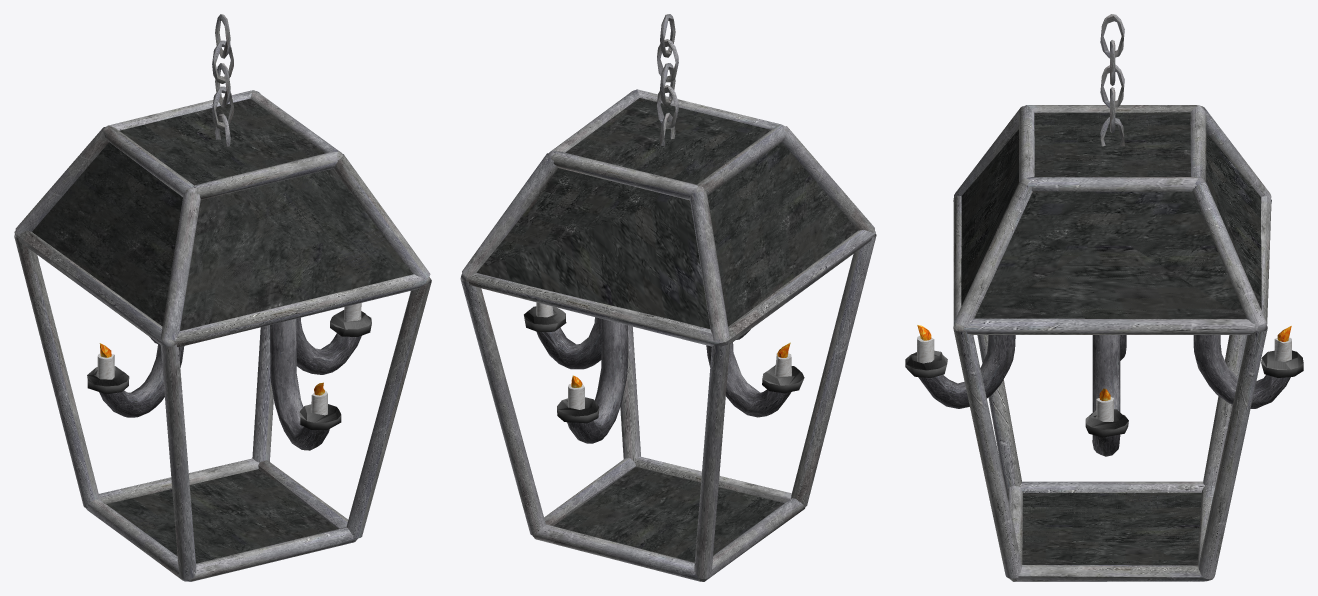
The model's file is lantern.fbx.
The picture shows the model from 3 angles, left to right: view 1: azimuth 30°, elevation 25°; view 2: azimuth 150°, elevation 25°; view 3: azimuth 270°, elevation 25°; orthographic projection. The views are drawn at different scales.
Parts seen in each view (by area): view 1: Lantern; view 2: Lantern; view 3: Lantern.
Part boxes in pixels (x1,y1,x2,y2): Lantern: [14, 14, 431, 581]; Lantern: [460, 14, 876, 581]; Lantern: [905, 14, 1303, 581].
Bounding box in the file's own units: 180 × 317 × 218.
Materials: 6 (6 with a texture image).
